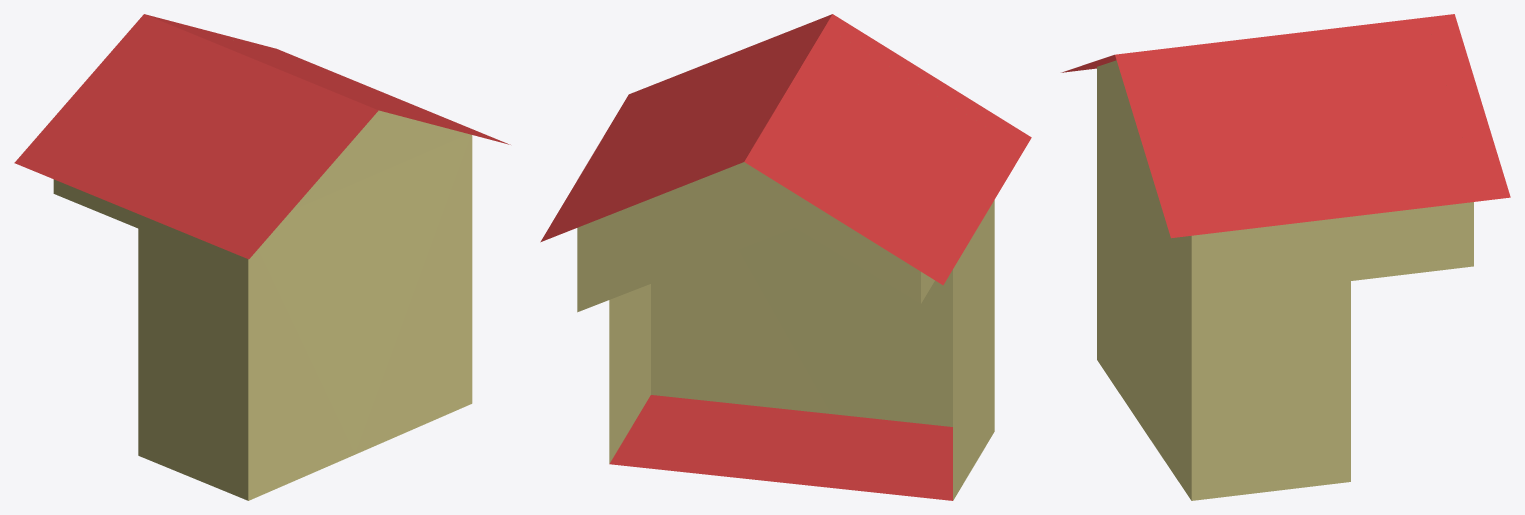
3 views of the same model, side by side, from view 1: azimuth 30°, elevation 25°; view 2: azimuth 150°, elevation 25°; view 3: azimuth 270°, elevation 25° (orthographic). The views are drawn at different scales.
Bounding box in the file's own units: 12.22 × 11.3 × 10.47.
